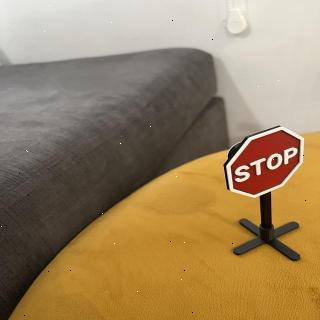sign_stop: (227, 127, 307, 199)
